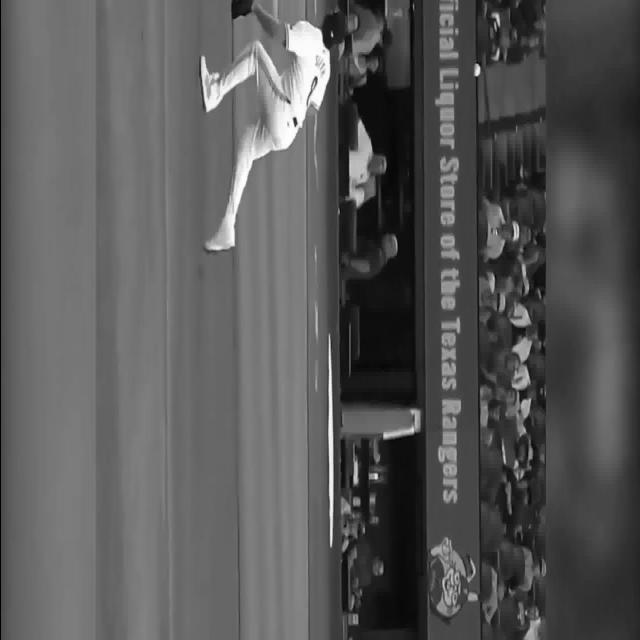baseball: (472, 63, 480, 77)
baseball_glove: (230, 0, 253, 19)
shoe: (203, 221, 235, 252), (199, 54, 211, 112)
